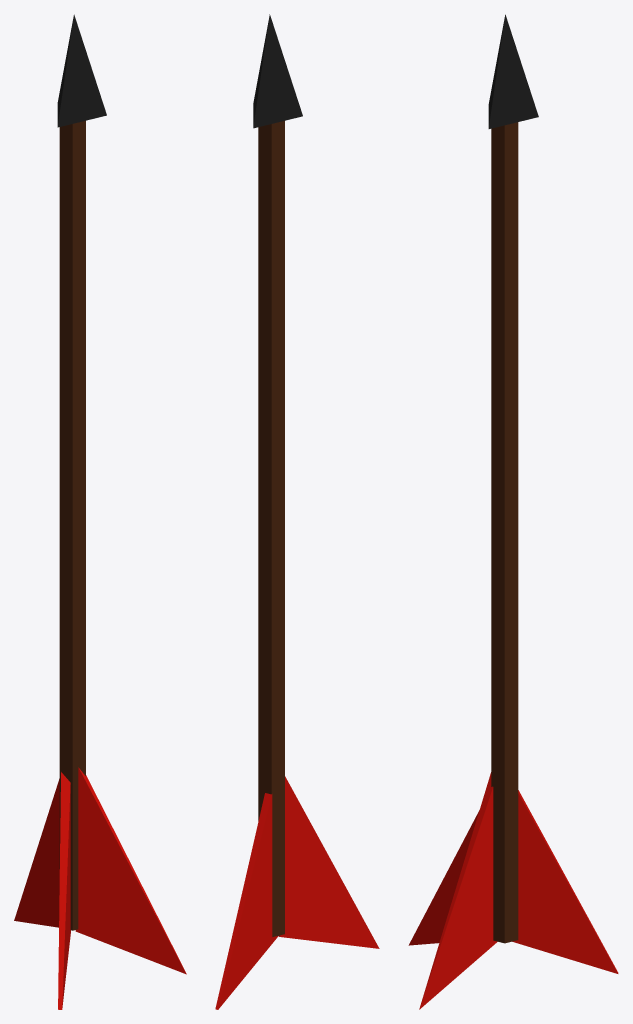
The model's file is flèche5.fbx.
The picture shows the model from 3 angles, left to right: view 1: azimuth 30°, elevation 25°; view 2: azimuth 150°, elevation 25°; view 3: azimuth 270°, elevation 25°; orthographic projection.
Parts seen in each view (by area): view 1: flèche; view 2: flèche; view 3: flèche.
Boxes of the visible parts, x1,y1,x2,y2 form: flèche: [14, 14, 186, 1009]; flèche: [215, 14, 379, 1009]; flèche: [408, 14, 618, 1009].
Bounding box in the file's own units: 42.05 × 31.22 × 212.
